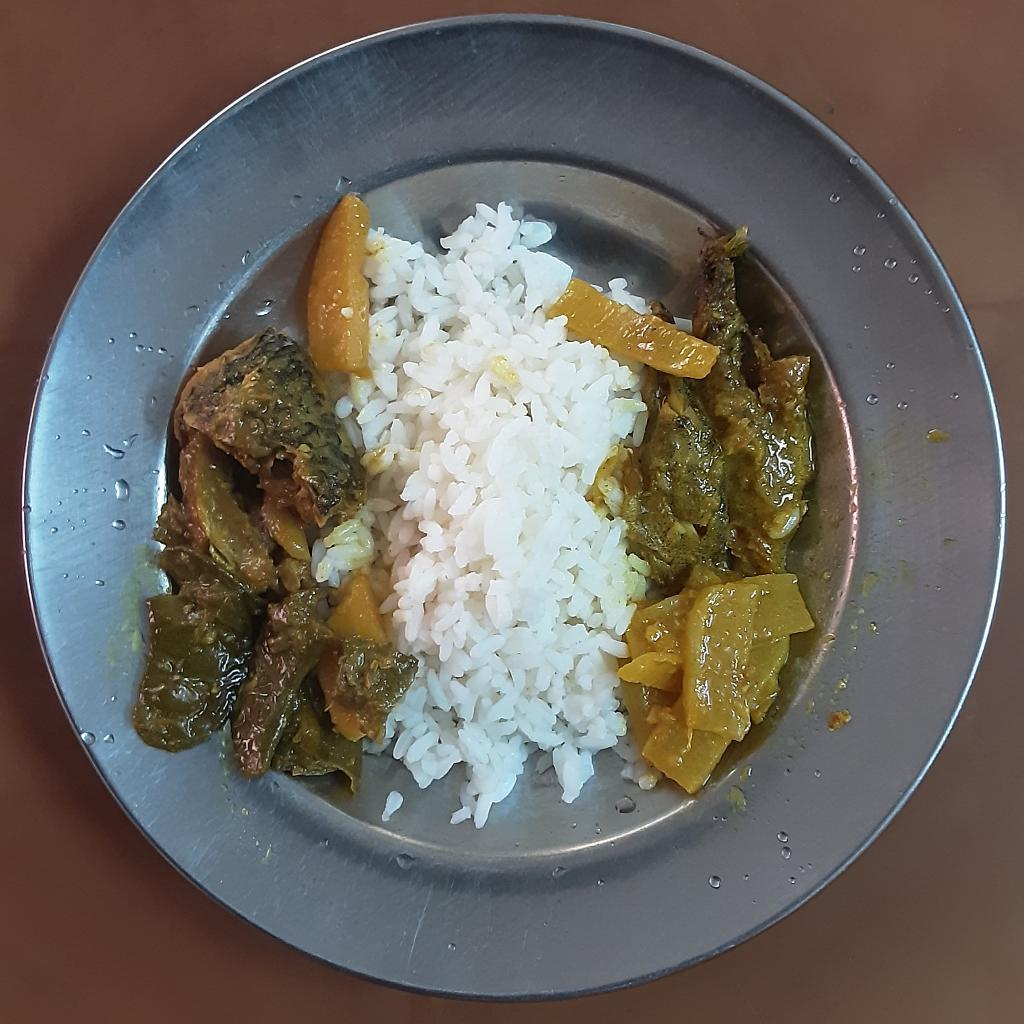carrot: (615, 566, 818, 789)
fish: (598, 228, 820, 592), (151, 331, 370, 584)
lau: (616, 562, 815, 802)
potato: (541, 275, 716, 369), (305, 193, 372, 371)
rice: (303, 203, 662, 830), (609, 275, 650, 313), (379, 784, 406, 821)
shim: (129, 553, 421, 800)
